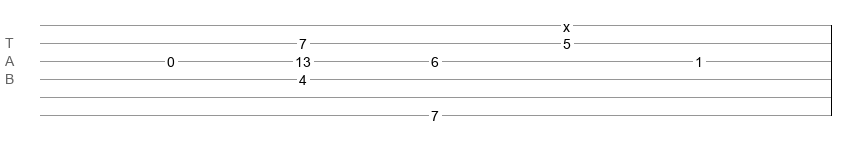0: (167, 54, 175, 64)
1: (695, 54, 703, 64)
13: (295, 54, 311, 64)
4: (299, 72, 307, 82)
5: (563, 36, 571, 46)
6: (431, 54, 439, 64)
7: (299, 36, 307, 46), (431, 108, 439, 118)
x: (563, 19, 570, 27)
